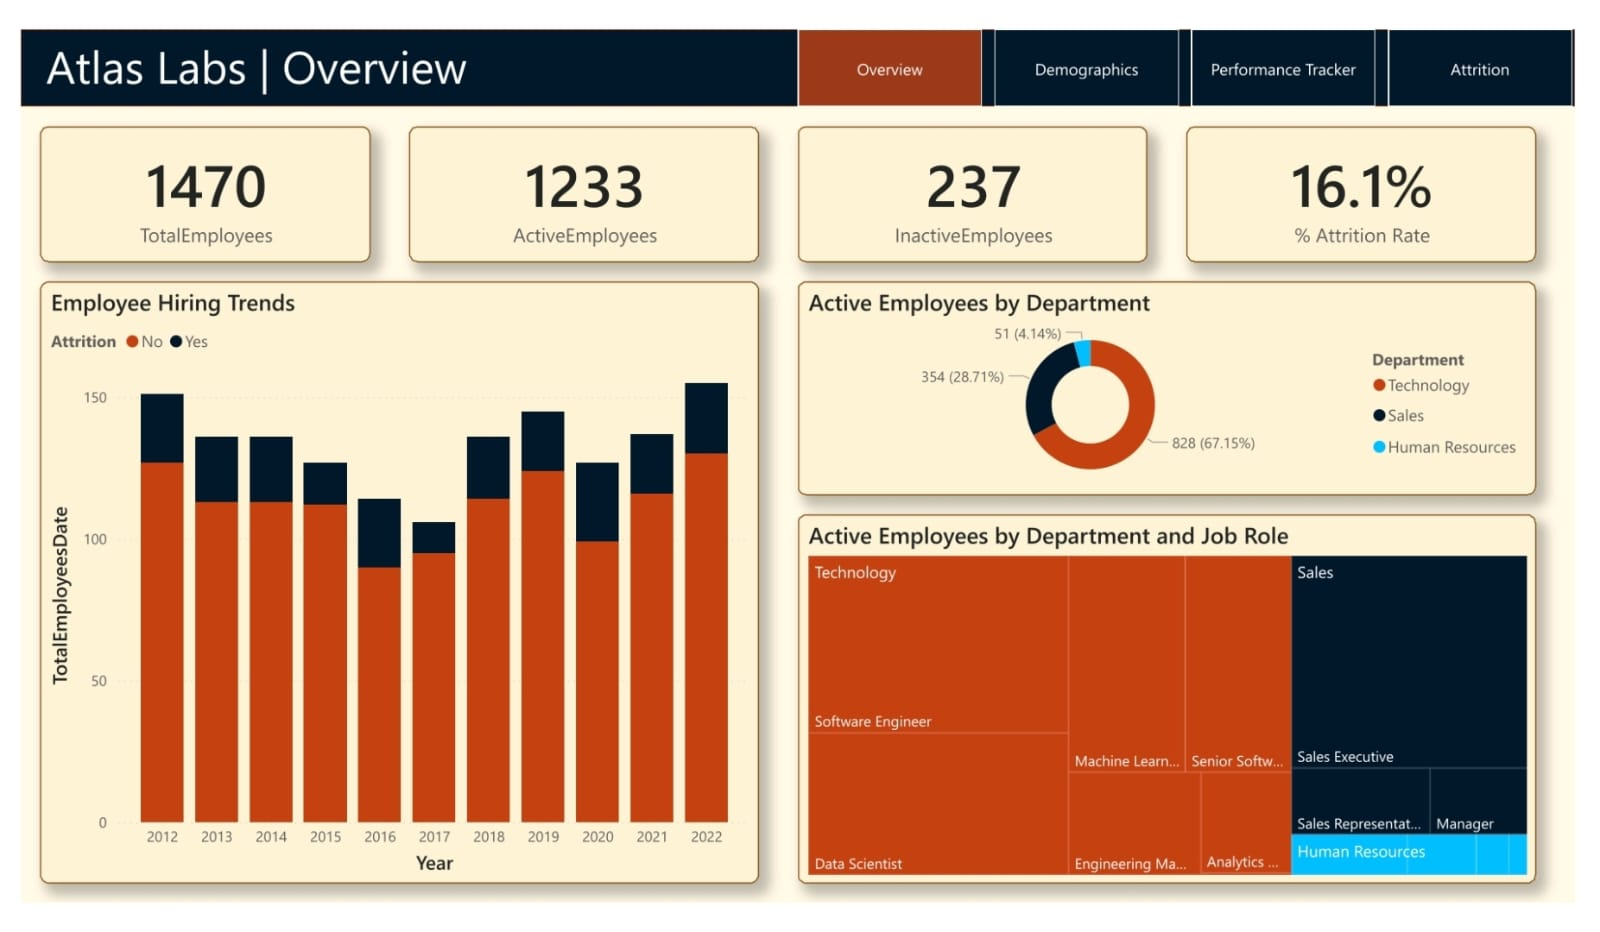

The dashboard page shown, as its layout file describes it:
{"tool":"powerbi","page":{"name":"Overview","canvas":[1280,720],"ordinal":0},"visuals":[{"type":"card","fields":{"Values":["_Measures.TotalEmployees"]},"box":[16,80,272,112],"z":0},{"type":"card","fields":{"Values":["_Measures.ActiveEmployees"]},"box":[320,80,288,112],"z":1000},{"type":"card","fields":{"Values":["_Measures.InactiveEmployees"]},"box":[640,80,288,112],"z":2000},{"type":"card","fields":{"Values":["_Measures.% Attrition Rate"]},"box":[960,80,288,112],"z":3000},{"type":"columnChart","title":"Employee Hiring Trends","fields":{"Category":["DimDate.Date.Variation.Date Hierarchy.Year","DimDate.Date.Variation.Date Hierarchy.Quarter","DimDate.Date.Variation.Date Hierarchy.Month","DimDate.Date.Variation.Date Hierarchy.Day"],"Y":["_Measures.TotalEmployeesDate"],"Series":["DimEmployee.Attrition"]},"box":[16,208,592,496],"z":4000},{"type":"donutChart","title":"Active Employees by Department","fields":{"Category":["DimEmployee.Department"],"Y":["_Measures.ActiveEmployees"]},"box":[640,208,608,176],"z":5000},{"type":"treemap","title":"Active Employees by Department and Job Role","fields":{"Values":["_Measures.ActiveEmployees"],"Group":["DimEmployee.Department"],"Details":["DimEmployee.JobRole"]},"box":[640,400,608,304],"z":6000},{"type":"shape","box":[0,0,1280,64],"z":7000},{"type":"textbox","box":[16,0,448,64],"z":8000},{"type":"pageNavigator","box":[640,0,640,64],"z":9000}]}

Visuals, with their boxes on the page's 1280x720 design canvas (x1, y1, x2, y2). These are canvas units, not pixel positions in the 1600x932 screenshot, which may show the page scaled, cropped or inside an application window:
card - _Measures.TotalEmployees: x1=16 y1=80 x2=288 y2=192
card - _Measures.ActiveEmployees: x1=320 y1=80 x2=608 y2=192
card - _Measures.InactiveEmployees: x1=640 y1=80 x2=928 y2=192
card - _Measures.% Attrition Rate: x1=960 y1=80 x2=1248 y2=192
"Employee Hiring Trends" columnChart: x1=16 y1=208 x2=608 y2=704
"Active Employees by Department" donutChart: x1=640 y1=208 x2=1248 y2=384
"Active Employees by Department and Job Role" treemap: x1=640 y1=400 x2=1248 y2=704
shape: x1=0 y1=0 x2=1280 y2=64
textbox: x1=16 y1=0 x2=464 y2=64
pageNavigator: x1=640 y1=0 x2=1280 y2=64
